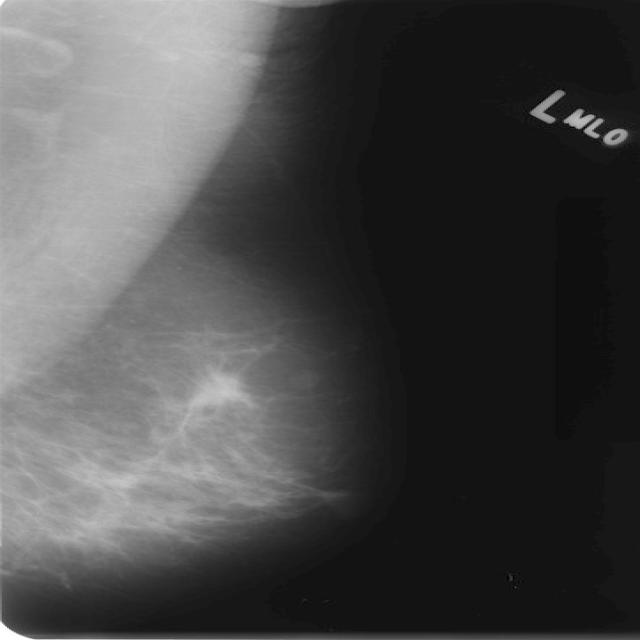tumour: (189, 371, 249, 408)
